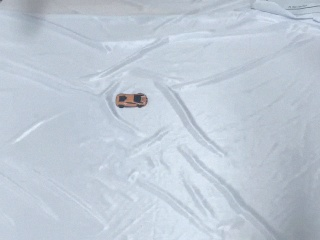toy_car: (116, 92, 149, 109)
